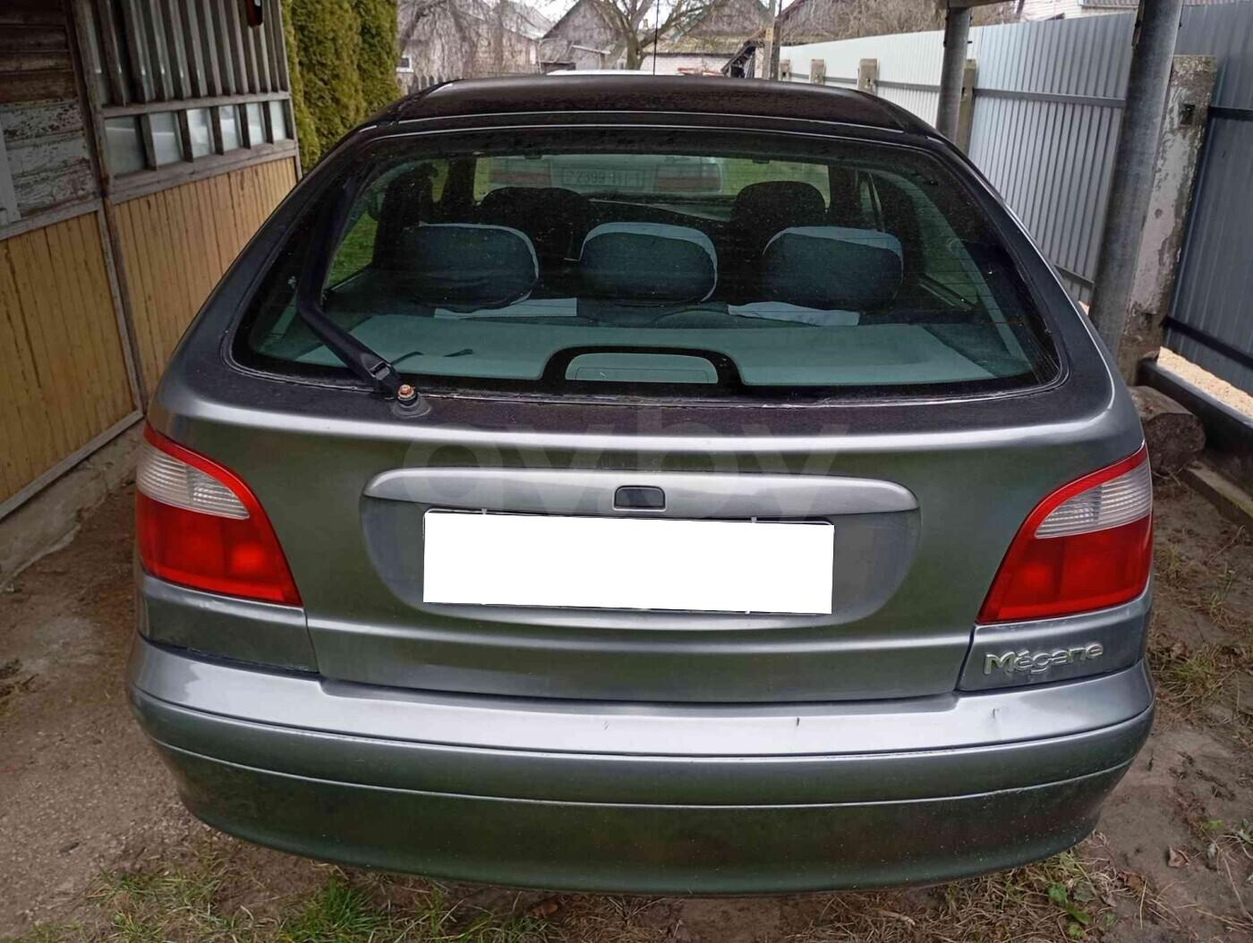Megane_1999-2003: (119, 74, 1180, 886)
